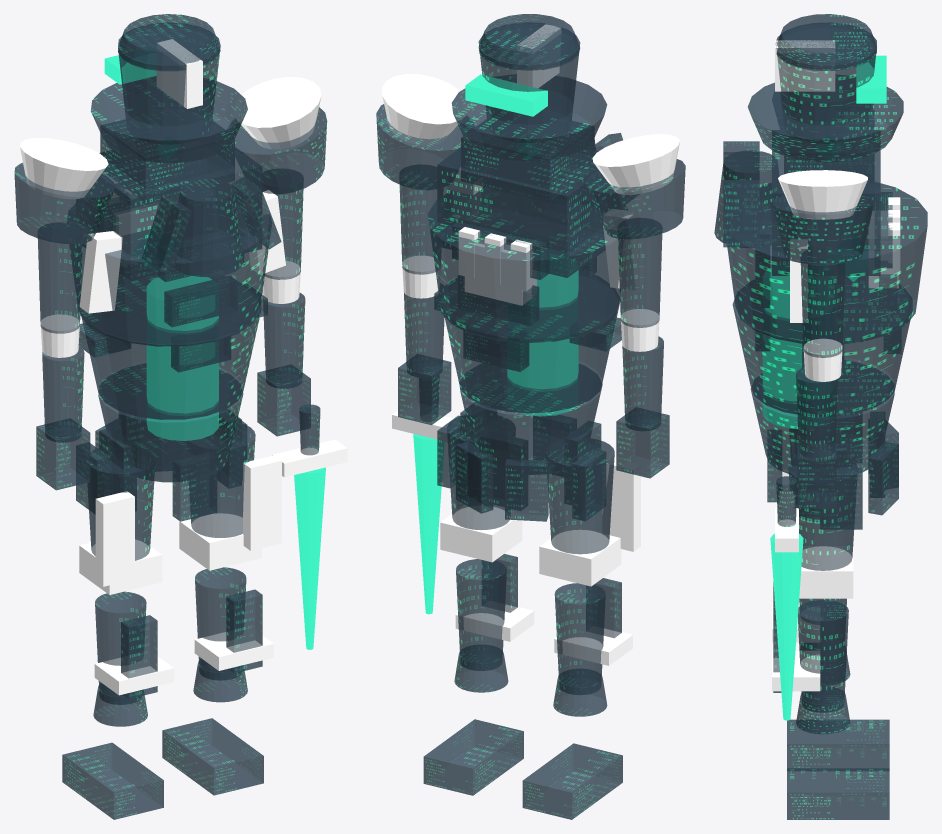
The model's file is guerrier.glb.
3 views of the same model, side by side, from view 1: azimuth 30°, elevation 25°; view 2: azimuth 150°, elevation 25°; view 3: azimuth 270°, elevation 25° (orthographic).
Visible parts, largest first — view 1: guerrier; view 2: guerrier; view 3: guerrier.
Boxes of the visible parts, <box> form: guerrier: <box>14,14,347,819</box>; guerrier: <box>376,14,685,819</box>; guerrier: <box>714,14,927,819</box>.
Bounding box in the file's own units: 1.15 × 2.74 × 0.7054.
